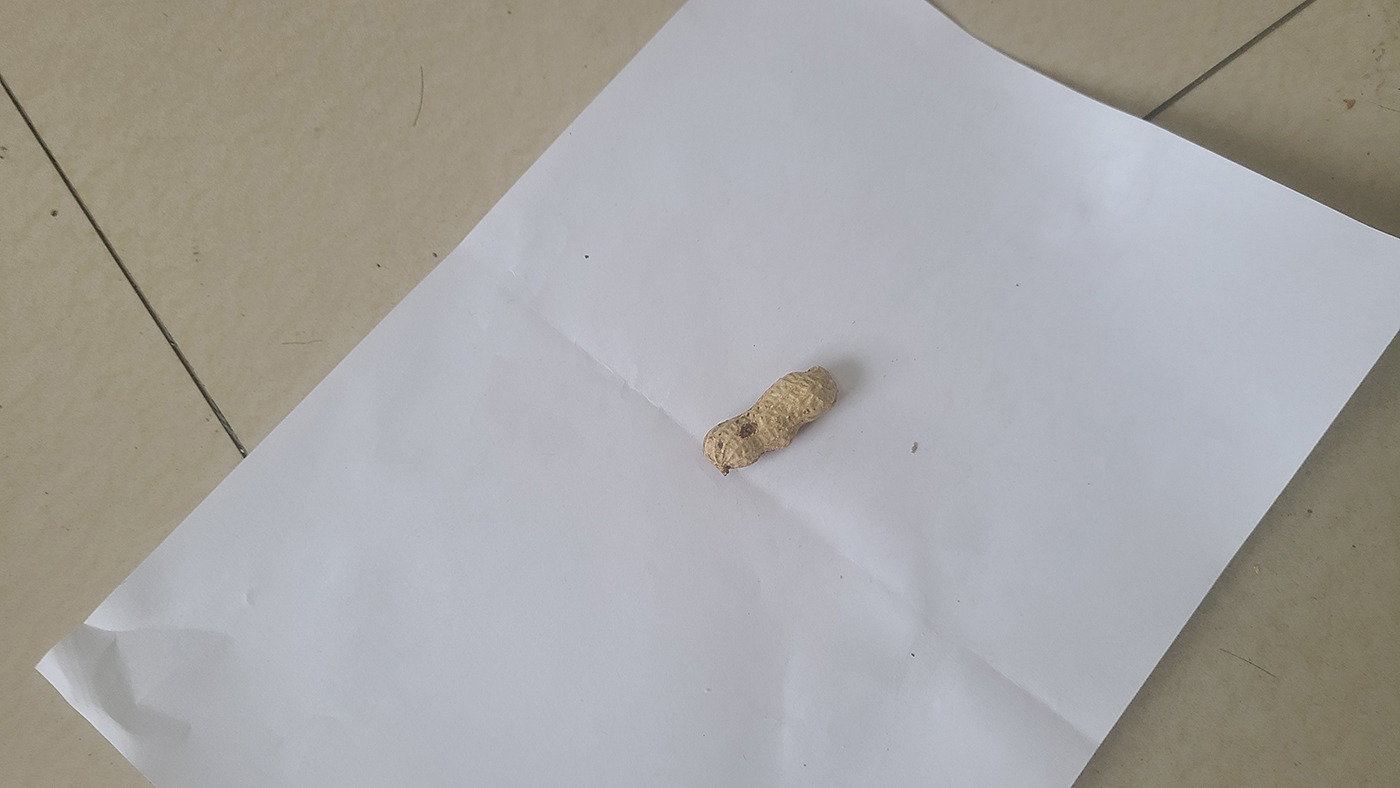h: (701, 364, 840, 471)
